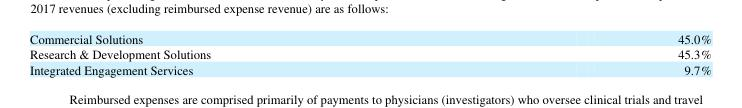table: (28, 29, 710, 77)
table column: (28, 29, 443, 77), (443, 29, 710, 77)
table row: (28, 60, 710, 77), (28, 29, 710, 45), (28, 45, 710, 60)
